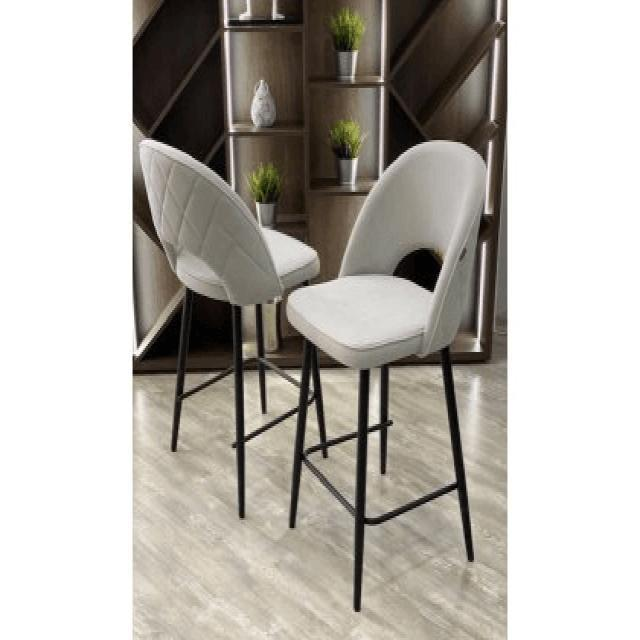chair: (286, 132, 489, 614), (136, 135, 332, 527), (291, 130, 485, 362), (139, 133, 318, 302)
